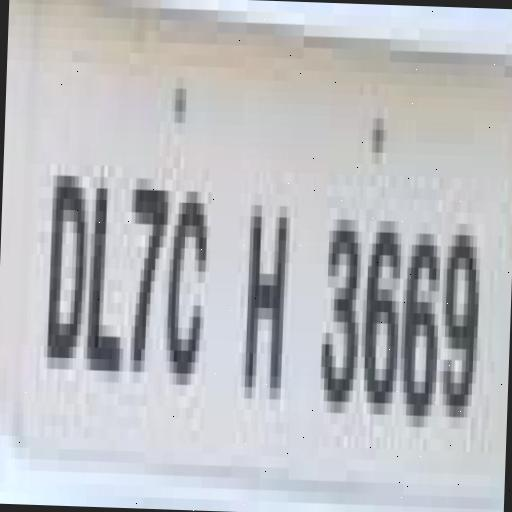number plate: (6, 25, 512, 486)
